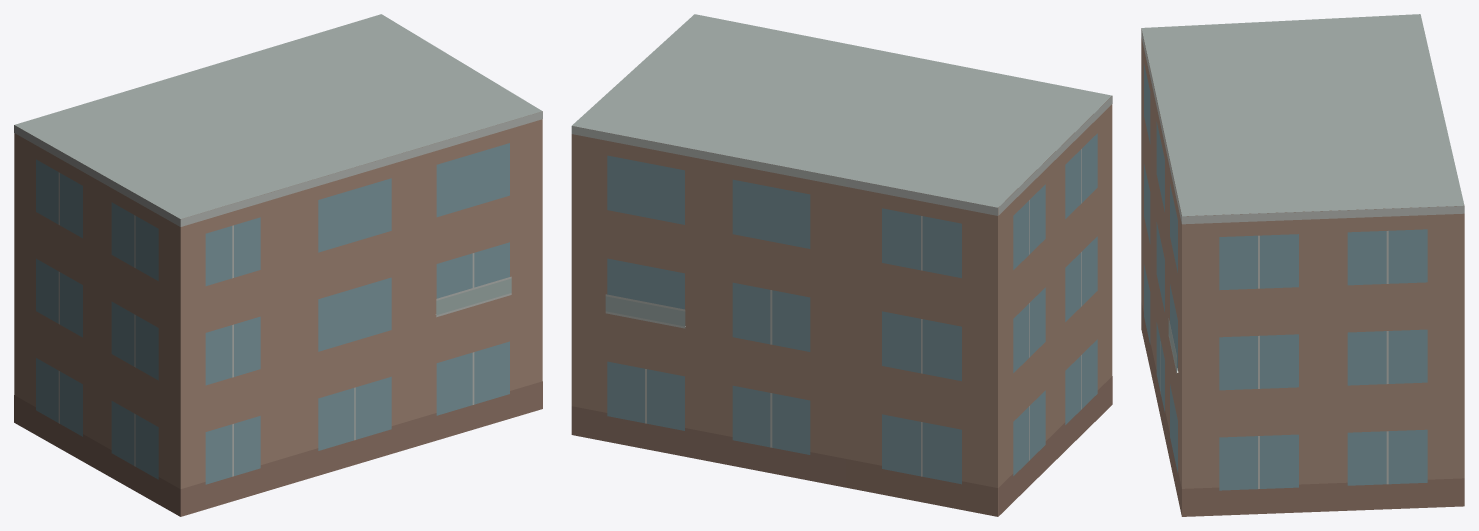
Rendered from survey-upis-32619576.glb.
3 renders of one model, left to right at view 1: azimuth 30°, elevation 25°; view 2: azimuth 150°, elevation 25°; view 3: azimuth 270°, elevation 25°, orthographic. The views are drawn at different scales.
Parts seen in each view (by area): view 1: survey-upis-32619576.tmp; view 2: survey-upis-32619576.tmp; view 3: survey-upis-32619576.tmp.
Boxes of the visible parts, bbox=[...] form: survey-upis-32619576.tmp: bbox=[14, 14, 542, 516]; survey-upis-32619576.tmp: bbox=[571, 14, 1112, 516]; survey-upis-32619576.tmp: bbox=[1141, 14, 1464, 516].
Bounding box in the file's own units: 13.21 × 9.15 × 8.93.
